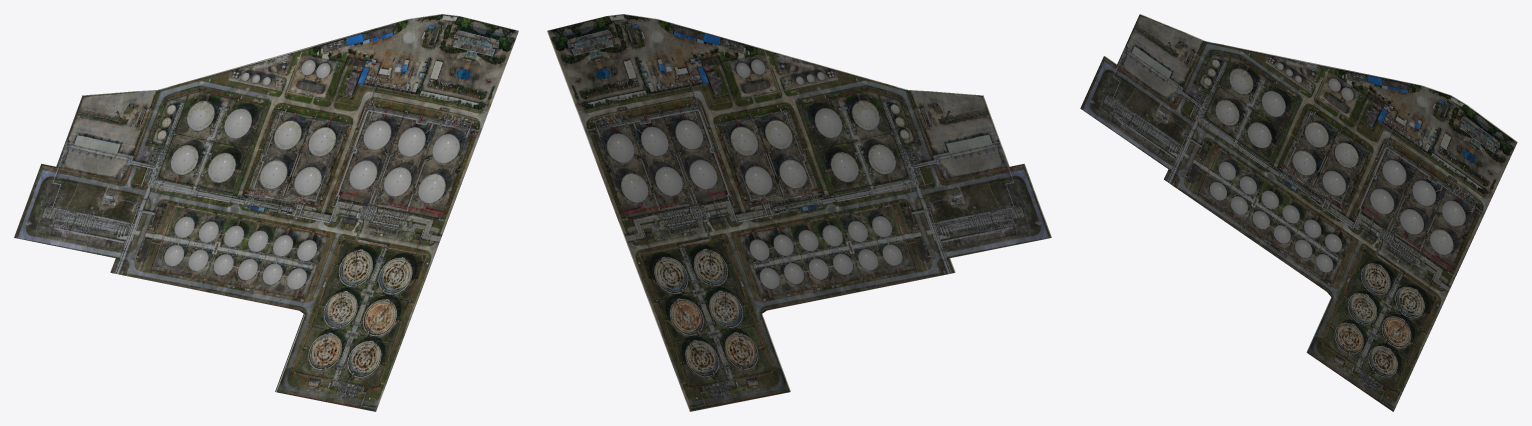
The picture shows the model from 3 angles, left to right: view 1: azimuth 30°, elevation 25°; view 2: azimuth 150°, elevation 25°; view 3: azimuth 330°, elevation 25°; orthographic projection. The views are drawn at different scales.
Parts seen in each view (by area): view 1: p6b_01; view 2: p6b_01; view 3: p6b_01.
Part boxes in pixels (x1,y1,x2,y2): p6b_01: (14, 14, 518, 411); p6b_01: (547, 14, 1051, 411); p6b_01: (1080, 14, 1517, 411).
Bounding box in the file's own units: 71705 × 52648 × 183.
